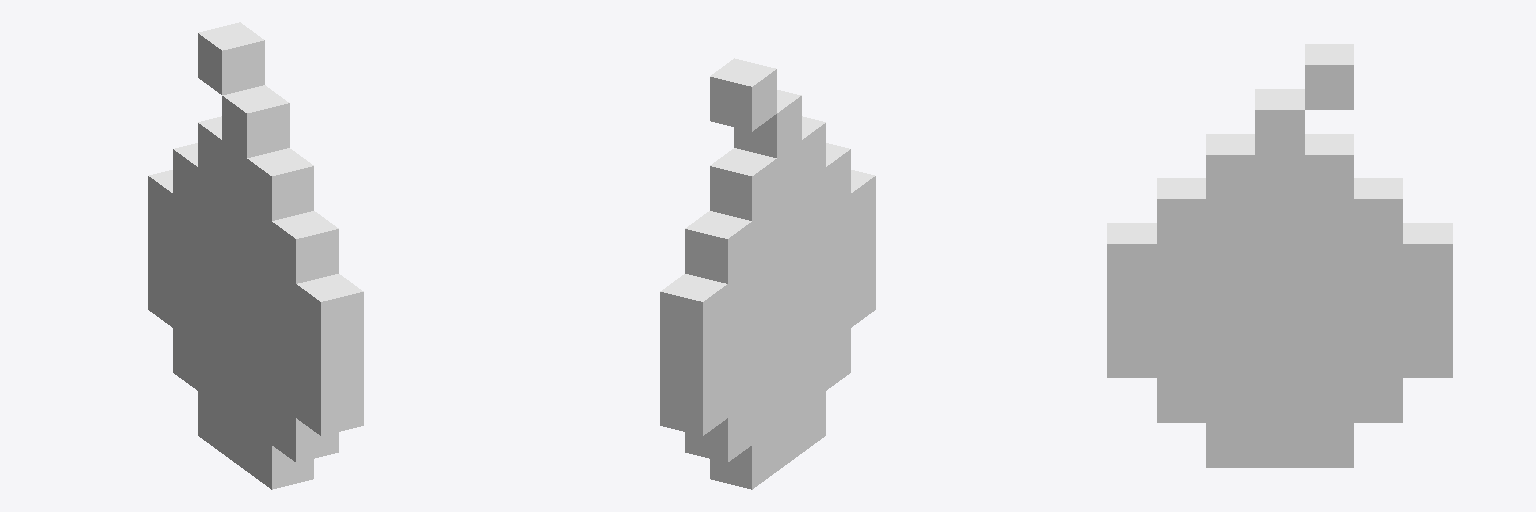
File: IconBomb.obj
3 views of the same model, side by side, from view 1: azimuth 30°, elevation 25°; view 2: azimuth 150°, elevation 25°; view 3: azimuth 270°, elevation 25° (orthographic).
Visible parts, largest first — view 1: object 1; view 2: object 1; view 3: object 1.
Part boxes in pixels (bbox=[...]): object 1: bbox=[148, 22, 363, 489]; object 1: bbox=[660, 58, 875, 489]; object 1: bbox=[1107, 44, 1452, 467].
Size of the model in its own units: 0.1 by 0.9 by 0.7.